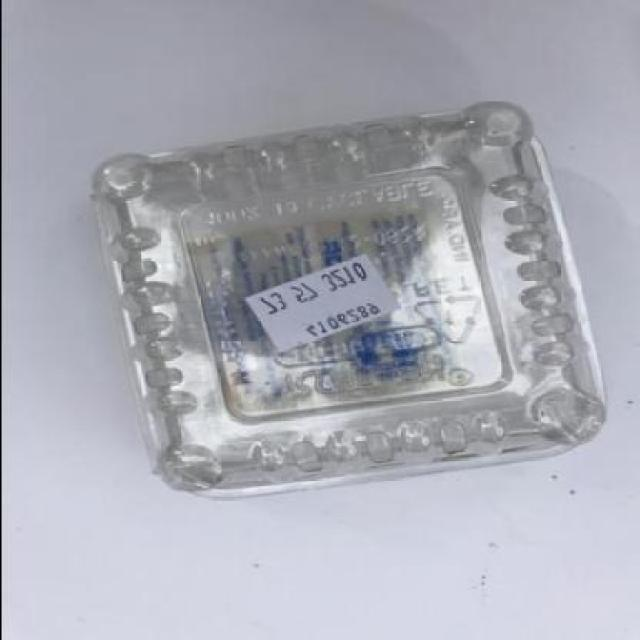PLASTIC: (87, 104, 608, 501)
